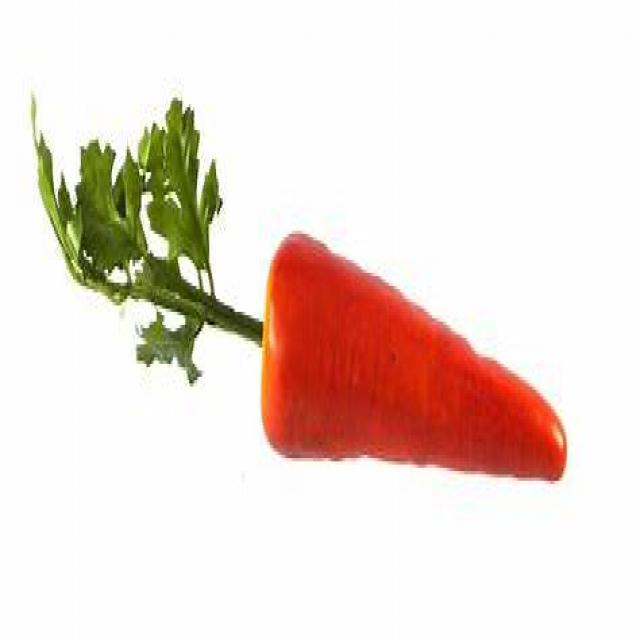Carrot: (262, 234, 567, 492)
